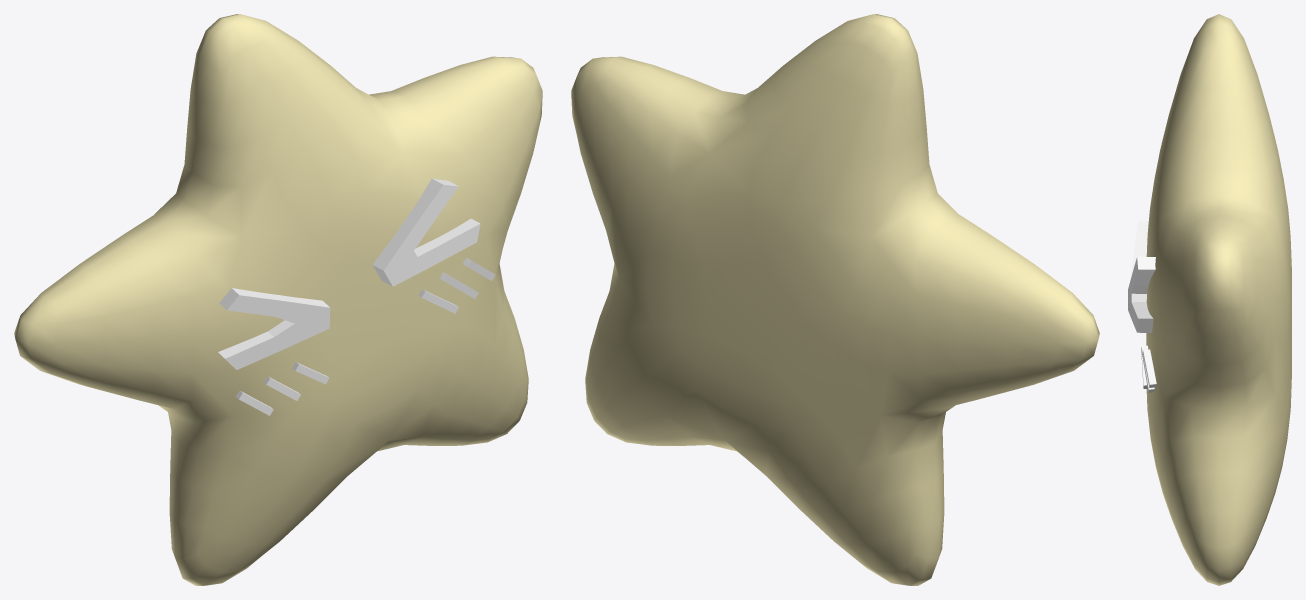
Rendered from stella_uwu_2.fbx.
The picture shows the model from 3 angles, left to right: view 1: azimuth 30°, elevation 25°; view 2: azimuth 150°, elevation 25°; view 3: azimuth 270°, elevation 25°; orthographic projection. The views are drawn at different scales.
Visible parts, largest first — view 1: stella2, occhi, uwu; view 2: stella2; view 3: stella2, occhi, uwu.
Part boxes in pixels (left/top/right/bottom): stella2: left=14, top=14, right=542, bottom=585; occhi: left=218, top=178, right=480, bottom=369; uwu: left=235, top=258, right=495, bottom=415; stella2: left=571, top=14, right=1099, bottom=585; stella2: left=1146, top=14, right=1291, bottom=585; occhi: left=1128, top=221, right=1155, bottom=332; uwu: left=1141, top=333, right=1156, bottom=392.
Size of the model in its own units: 5.84 by 5.99 by 1.71.
